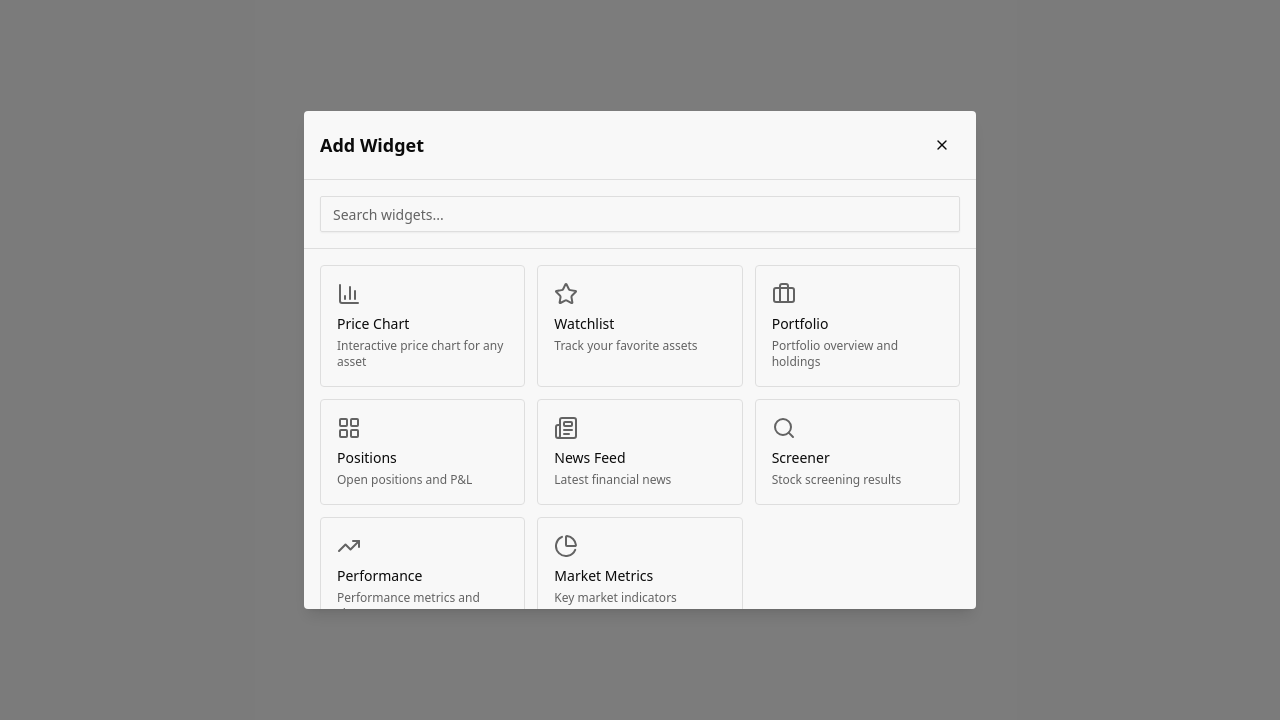
WidgetLibrary › filters widgets by search query
Type "chart" into the field with placeholder "Search widgets..." at (640,214), box [320, 196, 960, 232]
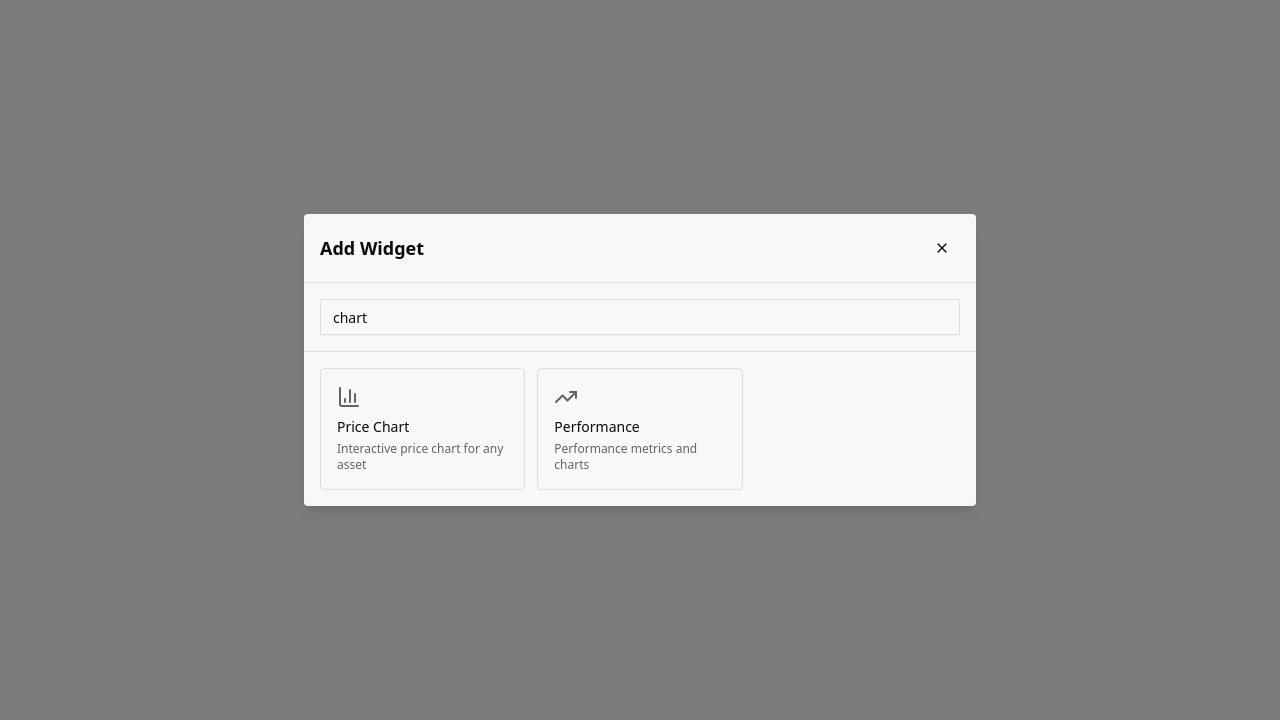
Expected: the heading "Price Chart" is shown, [337, 417, 409, 437]
Expected: the button "Watchlist" is gone
